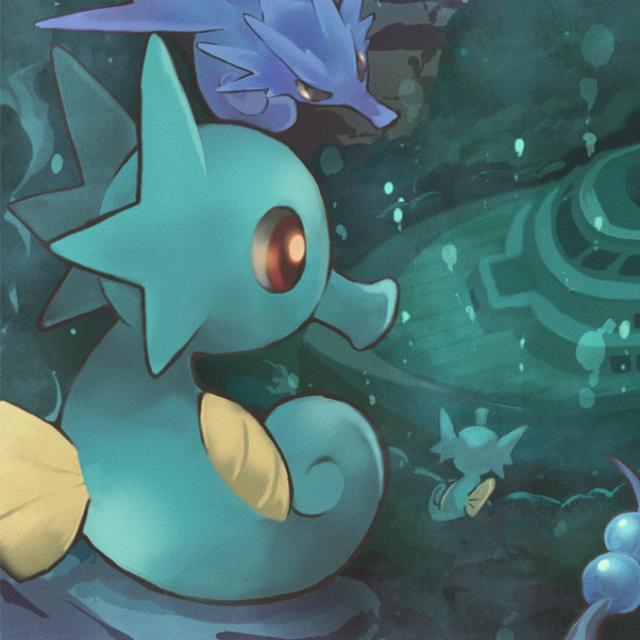Horsea: (0, 100, 403, 610)
Seadra: (43, 6, 411, 126)
